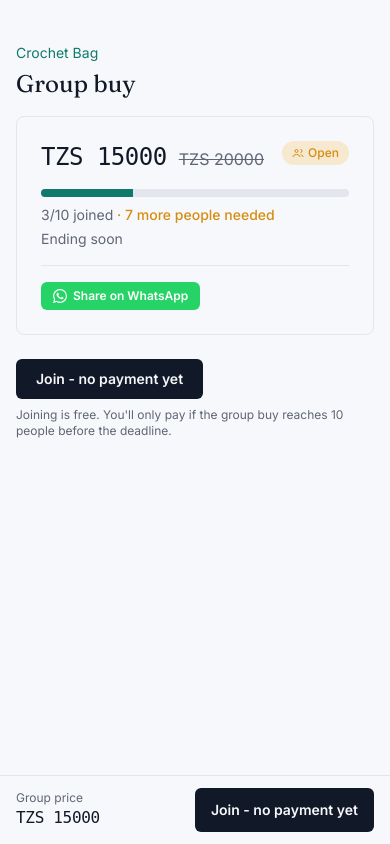
Test case: GroupBuyDetail - sticky mobile CTA (Phase 8) › joins as a signed-in buyer and then hides the bar
Check: the heading "Group buy" is shown, box x1=16 y1=69 x2=136 y2=98
Click the button "Join - no payment yet" in the row of "Group price" at (284, 810), box x1=195 y1=788 x2=374 y2=832
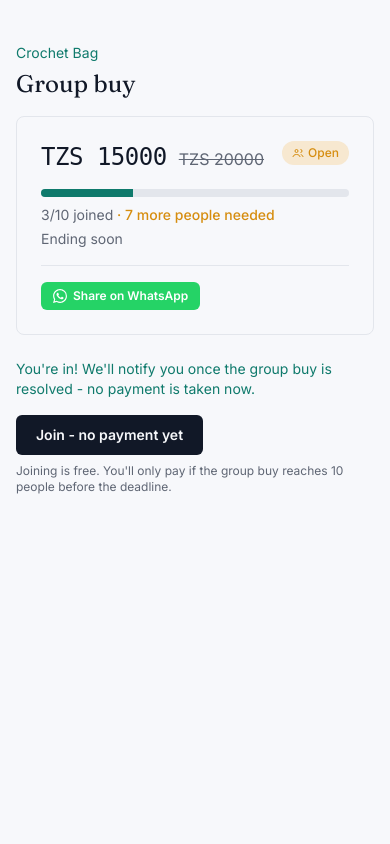
Check: the element with class "fixed" is gone
